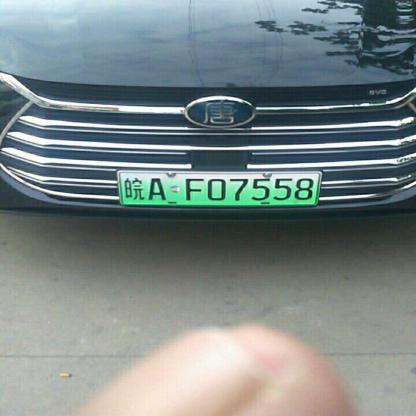lp: (115, 170, 324, 205)
